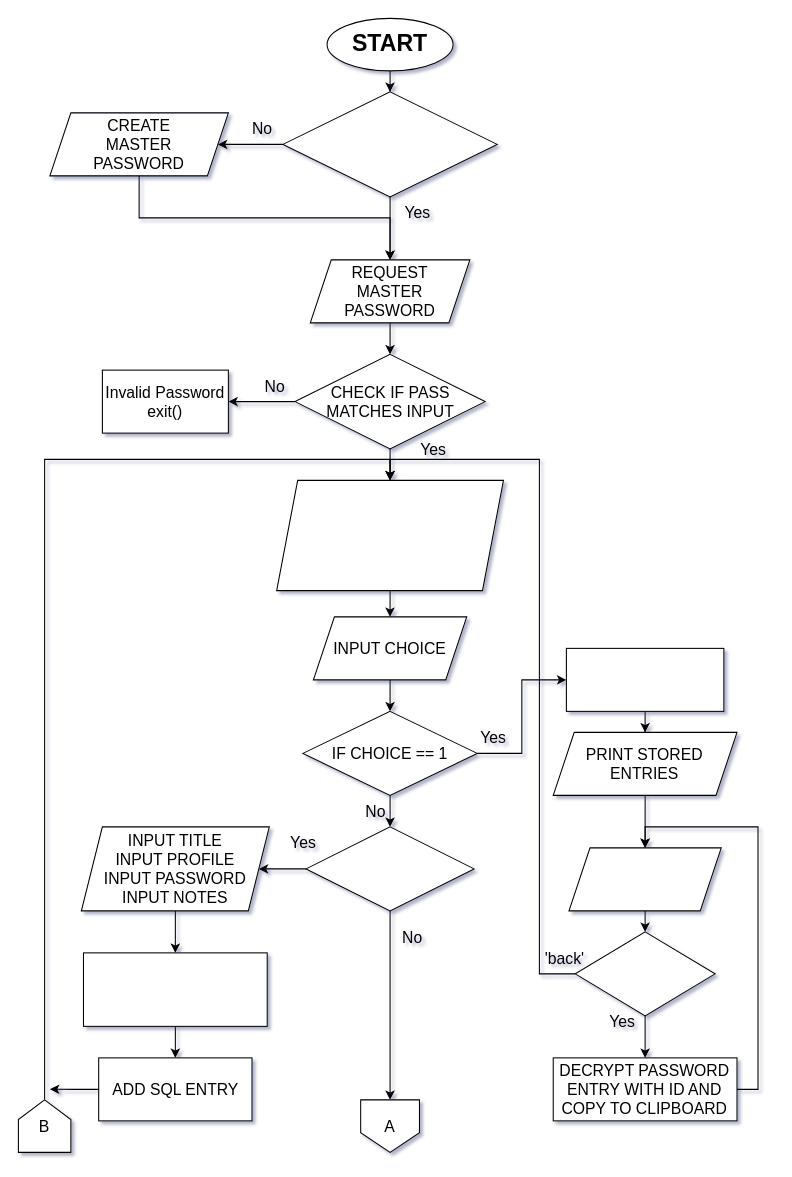
Some shapes in this 792 by 1177 pixel diagram are drawn without their labels. The shapes that lost their labels are listed below. From the top down, each one's centre as x and y in pixels, then its label:
At point (389, 144): "CHECK IF MASTER PASSWORD EXISTS".
At point (389, 535): "1] List Accounts 2] Add Account 3] Edit Account 4] Delete Account 5] Exit".
At point (644, 679): "FETCH STORED SQL ENTRIES".
At point (389, 868): "ELIF CHOICE == 2".
At point (644, 879): "ENTER ID or 'back'".
At point (174, 989): "ENCRYPT PASSWORD WITH AES-256".
At point (644, 973): "IF INPUT IS ID".
